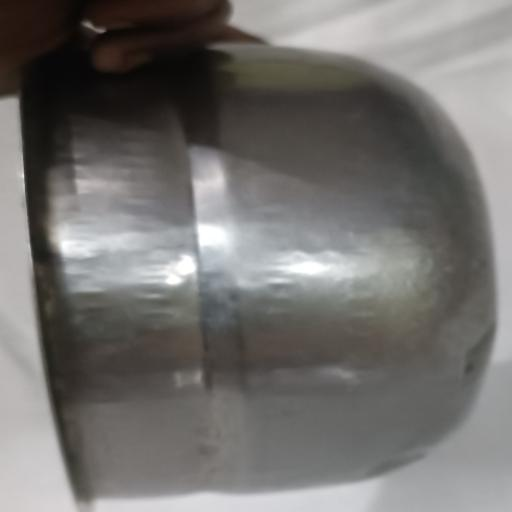vessel: (22, 44, 495, 502)
